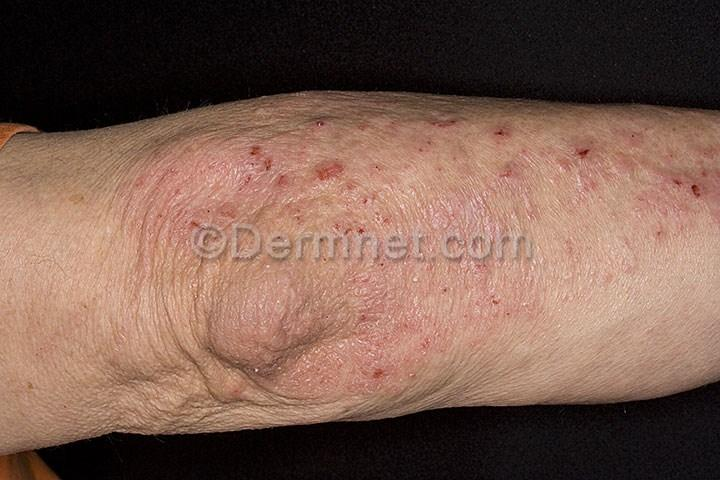eritema 1: (103, 111, 719, 412)
excoriacion 1: (100, 116, 716, 417)
exudacion 2: (182, 118, 709, 379)
